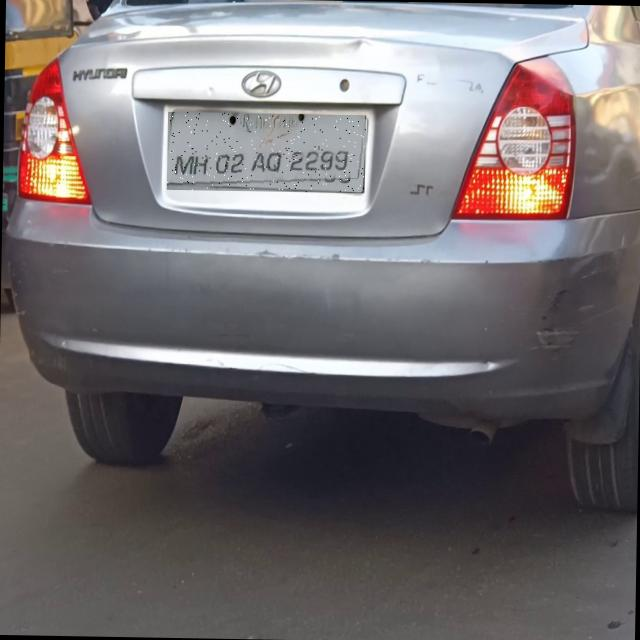Plate: (168, 113, 367, 194)
